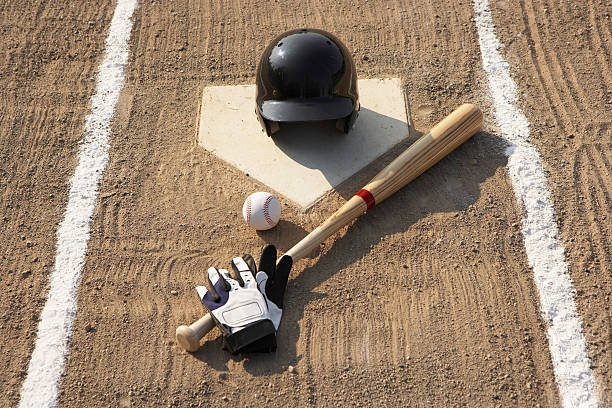bita: (177, 106, 489, 352)
